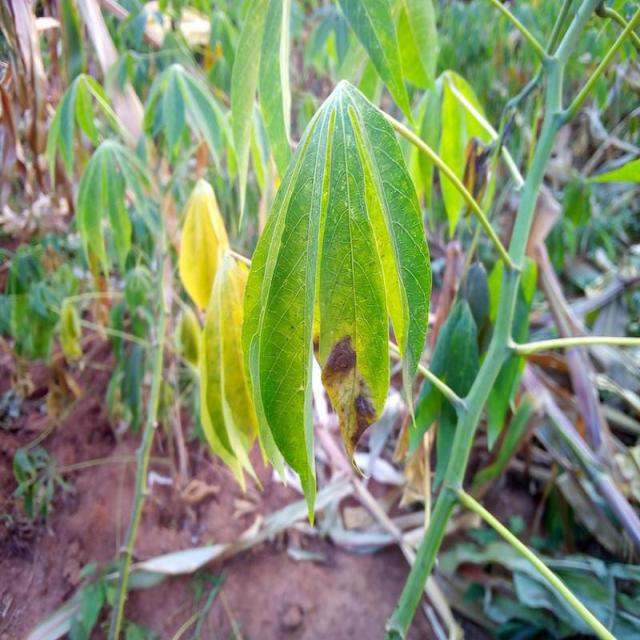cassava leaf: (241, 77, 434, 525)
